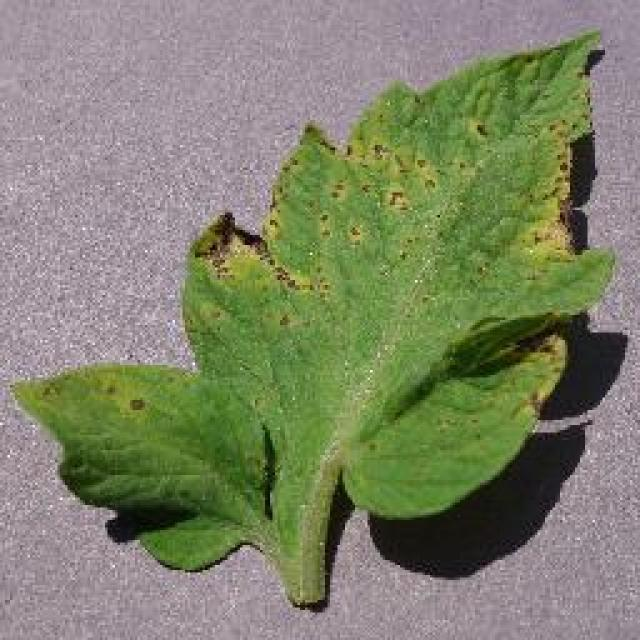Tomato___Septoria_leaf_spot: (12, 32, 612, 605)
